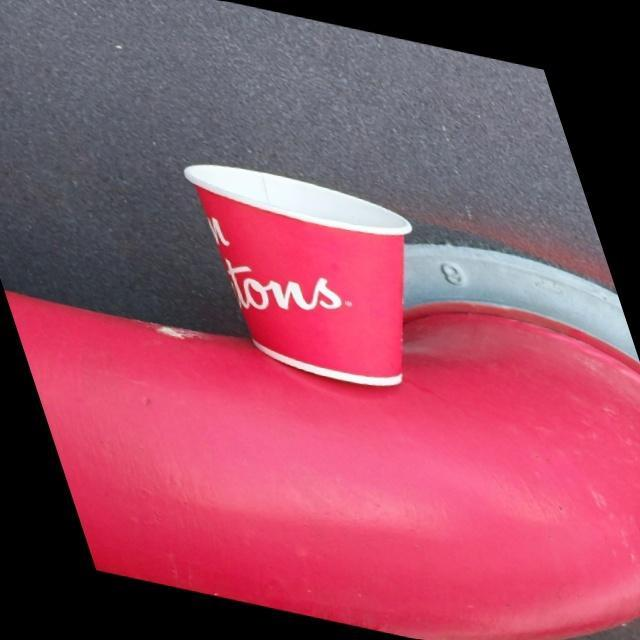timmies: (175, 142, 422, 394)
